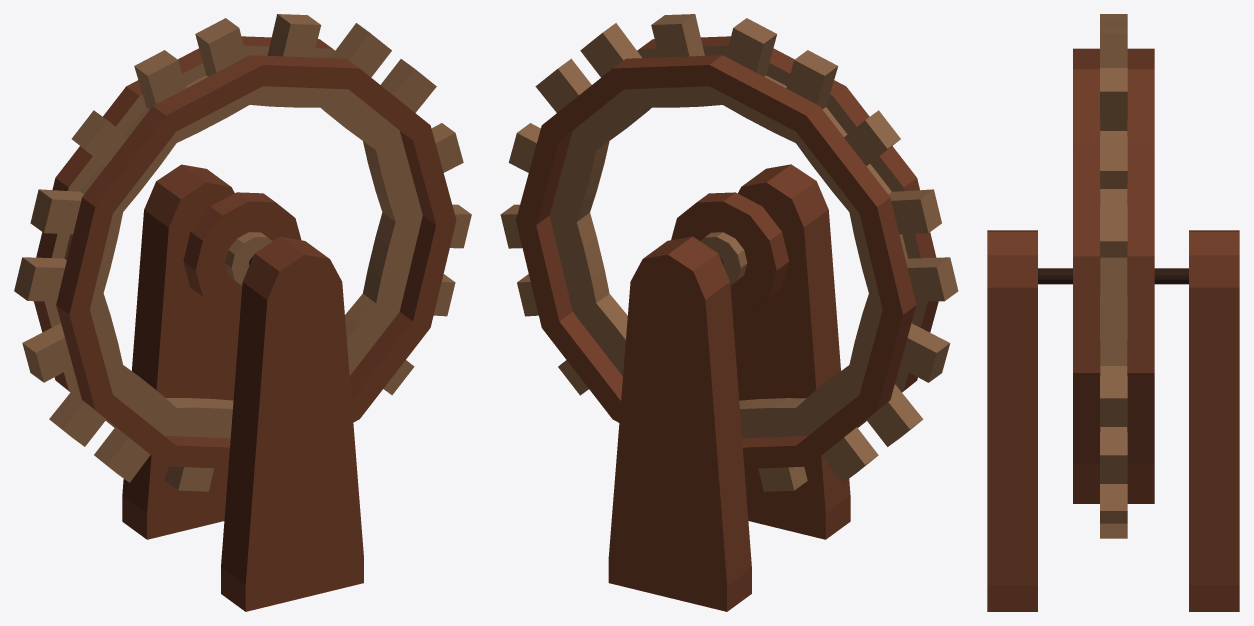
Rendered from WaterWheel.fbx.
3 renders of one model, left to right at view 1: azimuth 30°, elevation 25°; view 2: azimuth 150°, elevation 25°; view 3: azimuth 270°, elevation 25°, orthographic. The views are drawn at different scales.
Visible parts, largest first — view 1: Cylinder; view 2: Cylinder; view 3: Cylinder.
Part boxes in pixels (<box>): Cylinder: <box>14,14,471,611</box>; Cylinder: <box>500,14,958,611</box>; Cylinder: <box>987,14,1239,611</box>.
Size of the model in its own units: 1283 by 1467 by 617.
